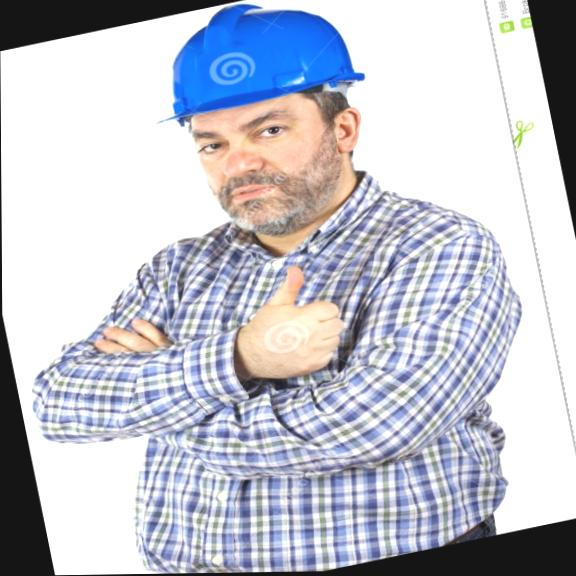no_safety_vest: (1, 157, 573, 576)
